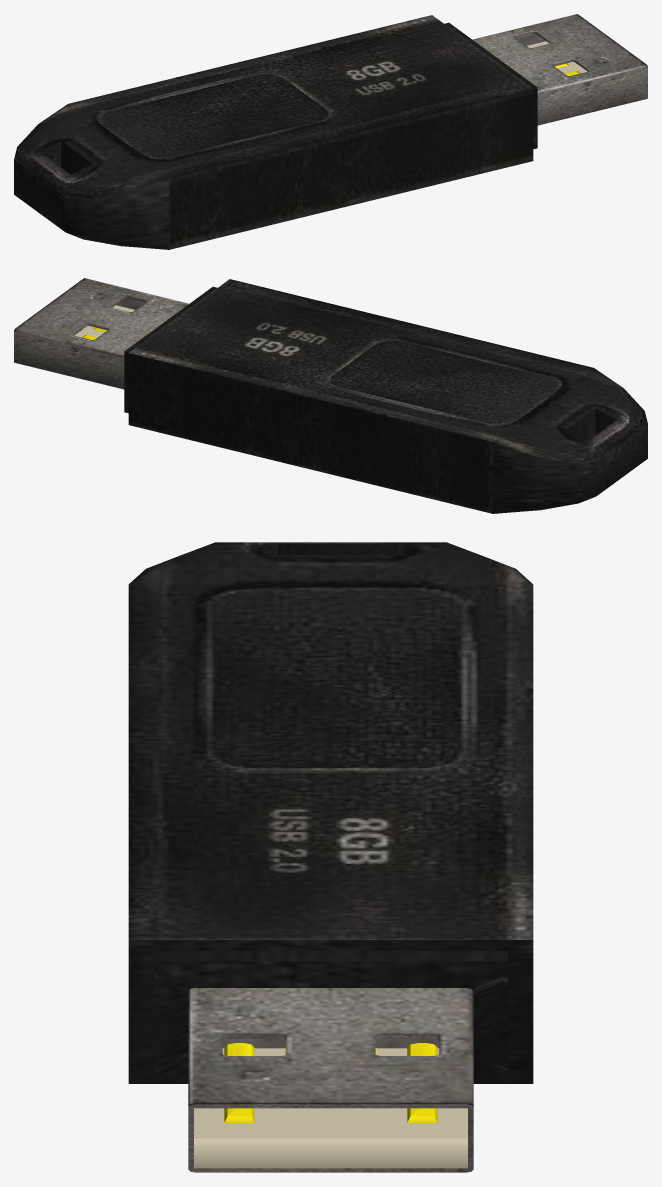
Rendered from item.contract.drive_800.glb.
The picture shows the model from 3 angles, top to bottom: view 1: azimuth 30°, elevation 25°; view 2: azimuth 150°, elevation 25°; view 3: azimuth 270°, elevation 25°; orthographic projection. The views are drawn at different scales.
Parts seen in each view (by area): view 1: Cube; view 2: Cube; view 3: Cube.
Part boxes in pixels (bbox=[...]): Cube: bbox=[14, 14, 647, 249]; Cube: bbox=[14, 278, 647, 513]; Cube: bbox=[128, 542, 533, 1172].
Size of the model in its own units: 1.2 by 0.1441 by 0.3676.
4 materials, 2 textured.
